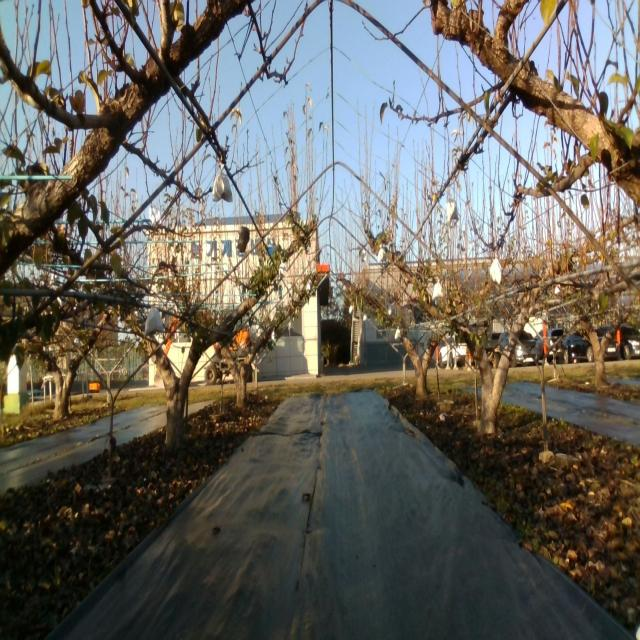pearbags: (212, 161, 233, 202), (144, 306, 164, 336), (489, 252, 502, 284), (446, 194, 458, 223), (431, 278, 443, 303)
